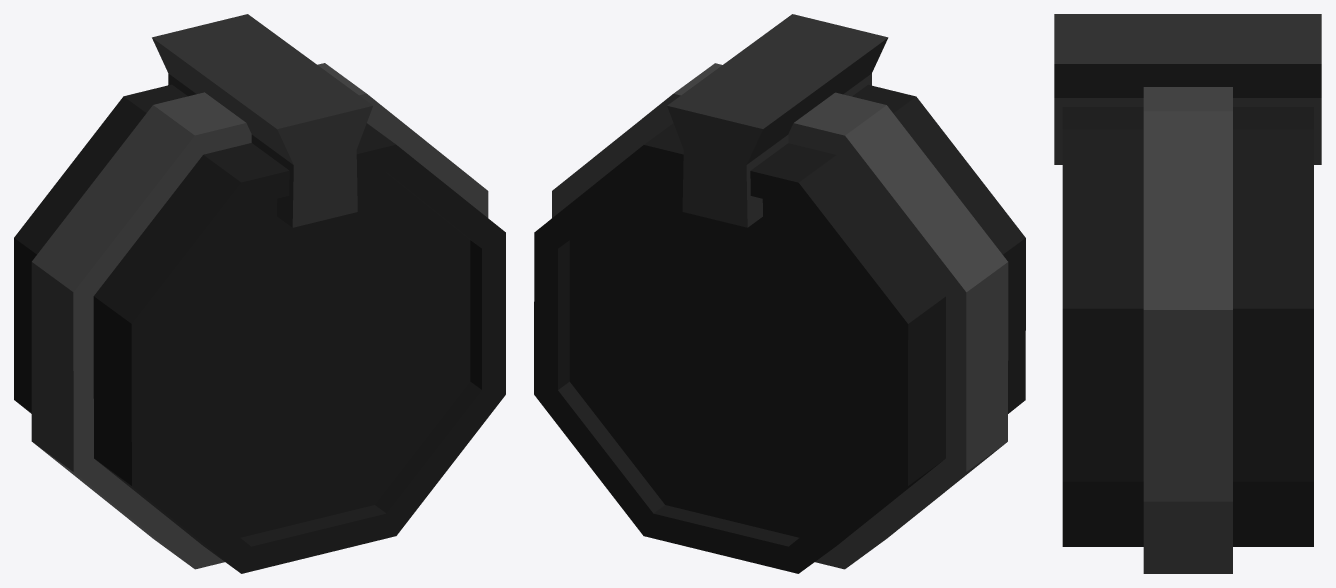
The model's file is RiotShotgun_Gun.glb.
3 renders of one model, left to right at view 1: azimuth 30°, elevation 25°; view 2: azimuth 150°, elevation 25°; view 3: azimuth 270°, elevation 25°, orthographic. The views are drawn at different scales.
Visible parts, largest first — view 1: RiotShotgunDrumMag; view 2: RiotShotgunDrumMag; view 3: RiotShotgunDrumMag.
Boxes of the visible parts, bbox=[...] form: RiotShotgunDrumMag: bbox=[14, 14, 505, 573]; RiotShotgunDrumMag: bbox=[534, 14, 1025, 573]; RiotShotgunDrumMag: bbox=[1054, 14, 1321, 573].
Bounding box in the file's own units: 0.2031 × 0.2157 × 0.1063.
1 material, 1 textured.
